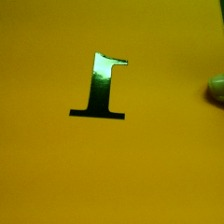orange1: (66, 45, 132, 124)
